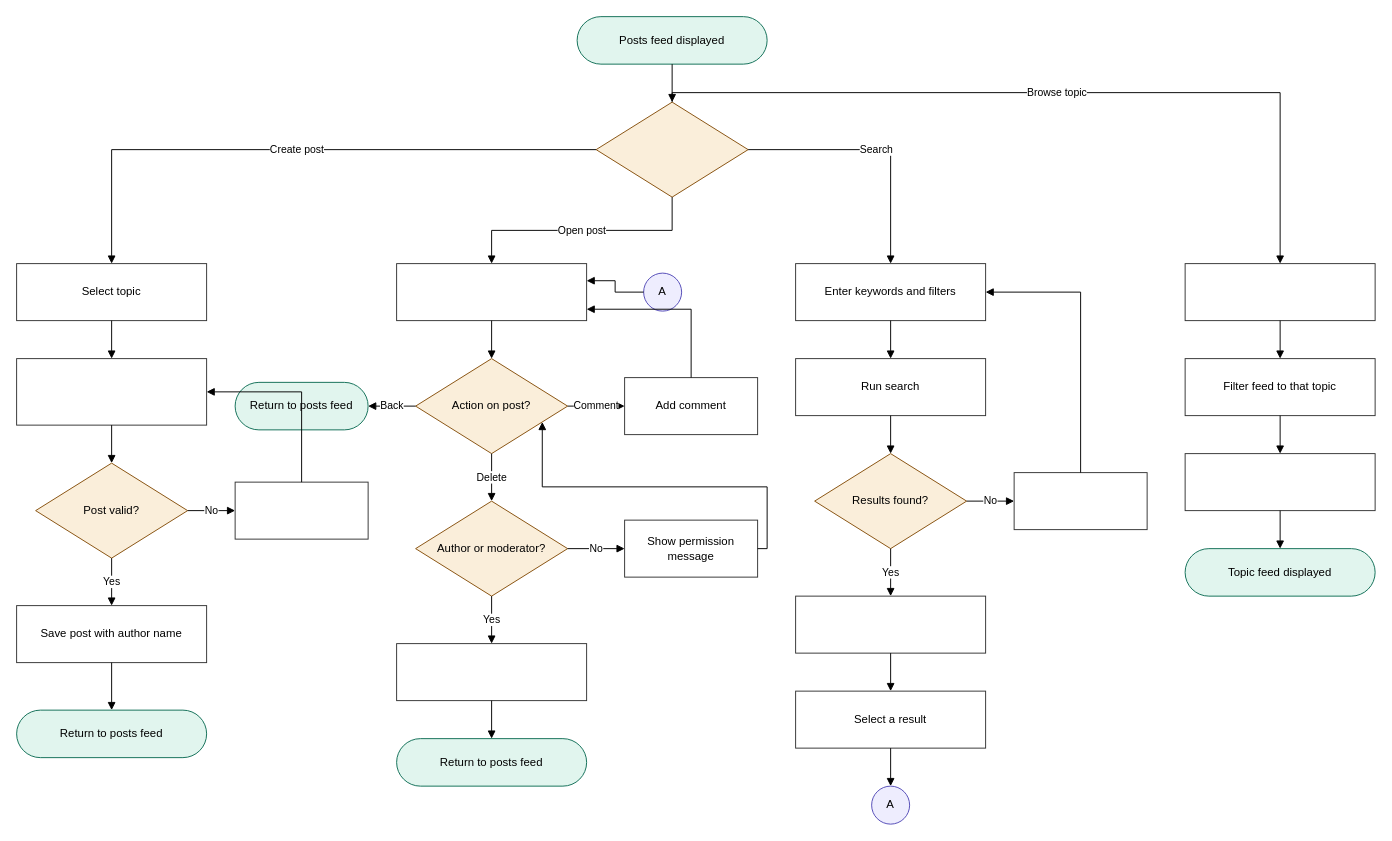
This 1392x841 diagram has some shape labels left out. The shapes that lost their labels are listed below. From the top down, each one's centre as x and y in pixels, then its label:
At point (671, 149): "User action?".
At point (491, 292): "Show post and comments".
At point (1279, 292): "Choose a topic".
At point (111, 391): "Write title, body, links and tags".
At point (1080, 501): "Show empty state".
At point (1279, 482): "Rank topic posts with same scoring".
At point (301, 510): "Show error message".
At point (890, 624): "Show results list".
At point (491, 672): "Remove post".
